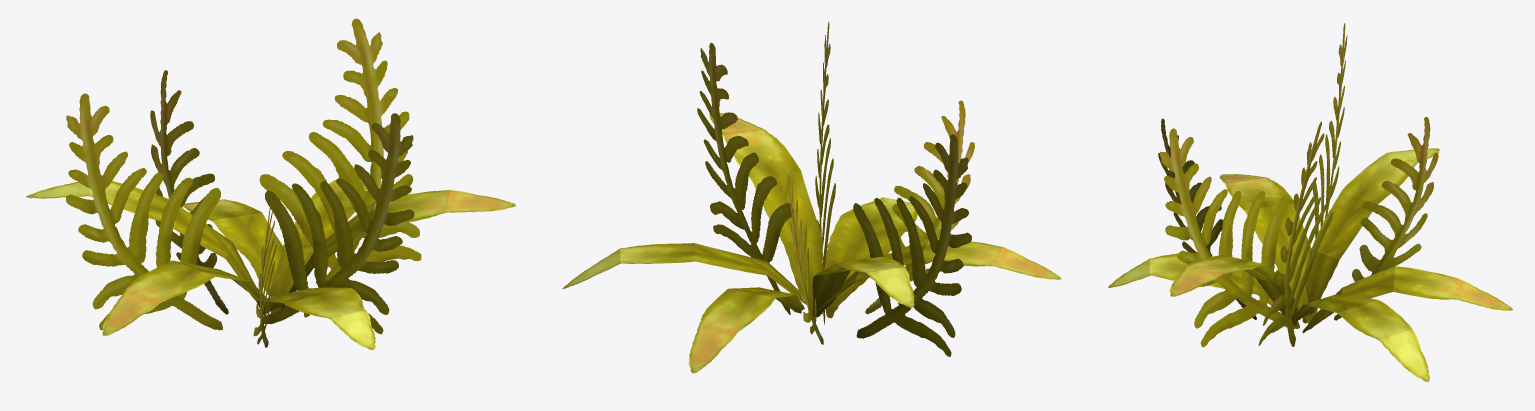
File: plantB.fbx
3 renders of one model, left to right at view 1: azimuth 30°, elevation 25°; view 2: azimuth 150°, elevation 25°; view 3: azimuth 270°, elevation 25°, orthographic. The views are drawn at different scales.
Parts seen in each view (by area): view 1: plantB; view 2: plantB; view 3: plantB.
Boxes of the visible parts, bbox=[...] form: plantB: bbox=[26, 18, 516, 350]; plantB: bbox=[562, 21, 1061, 373]; plantB: bbox=[1108, 23, 1513, 382].
Size of the model in its own units: 121 by 81.82 by 107.
1 material, 1 textured.
